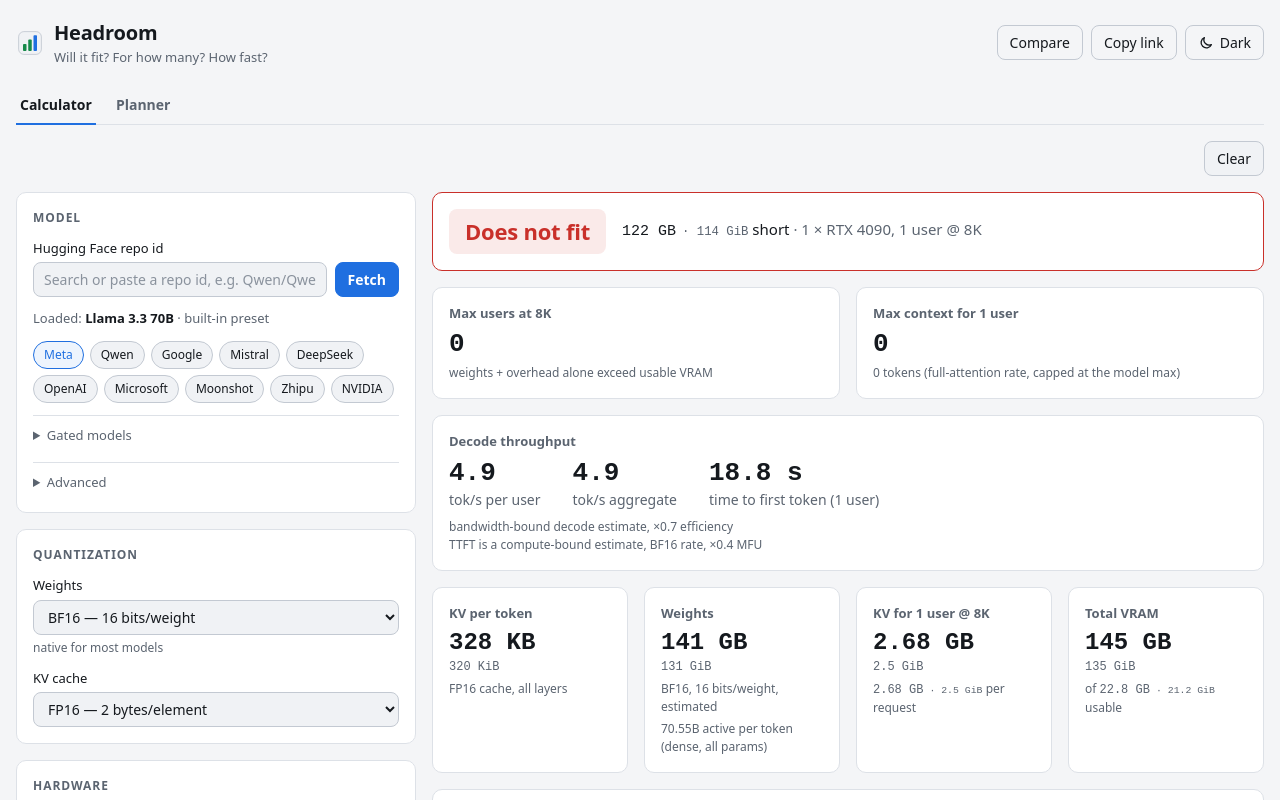
it: App › Copy link writes the encoded state to the URL and the clipboard
Click the button "Copy link". click: (1134, 43)
box: [1091, 25, 1177, 60]
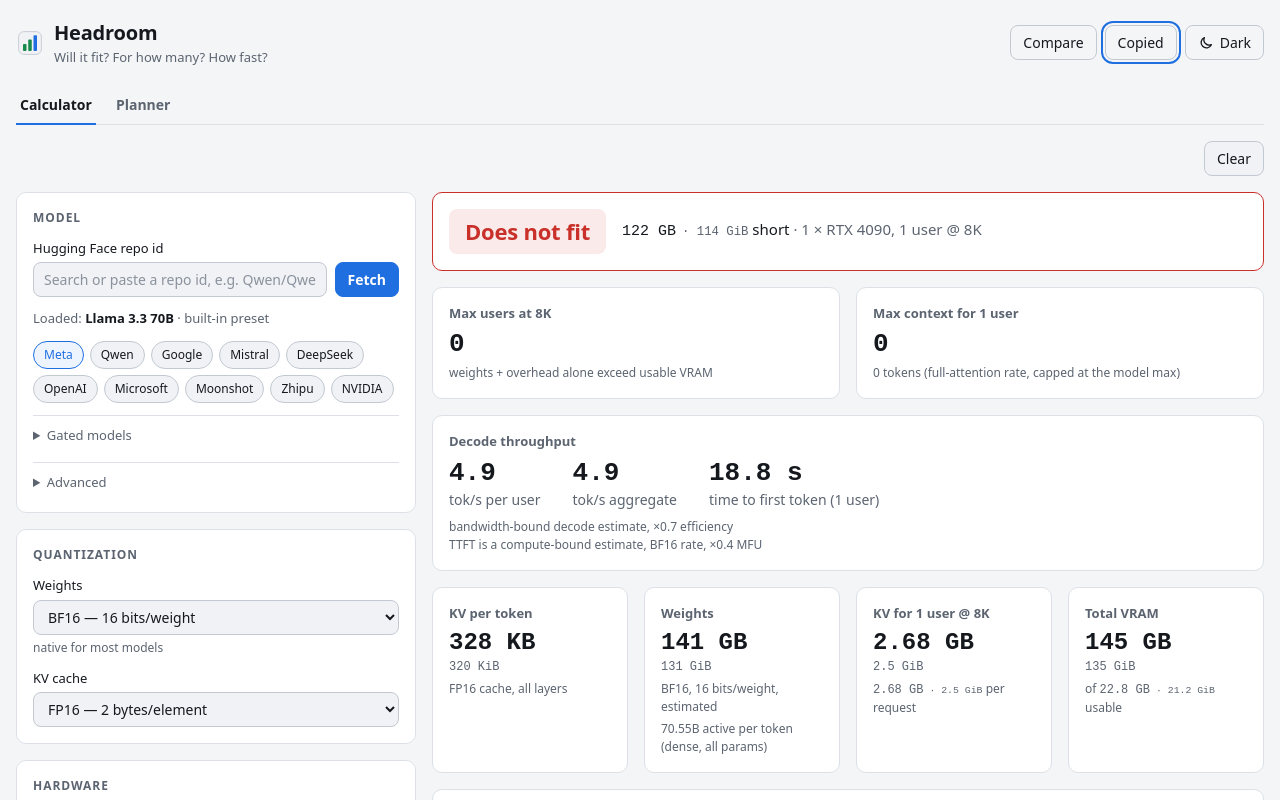
Now the text "Copied" is shown, box [1118, 32, 1164, 53]
